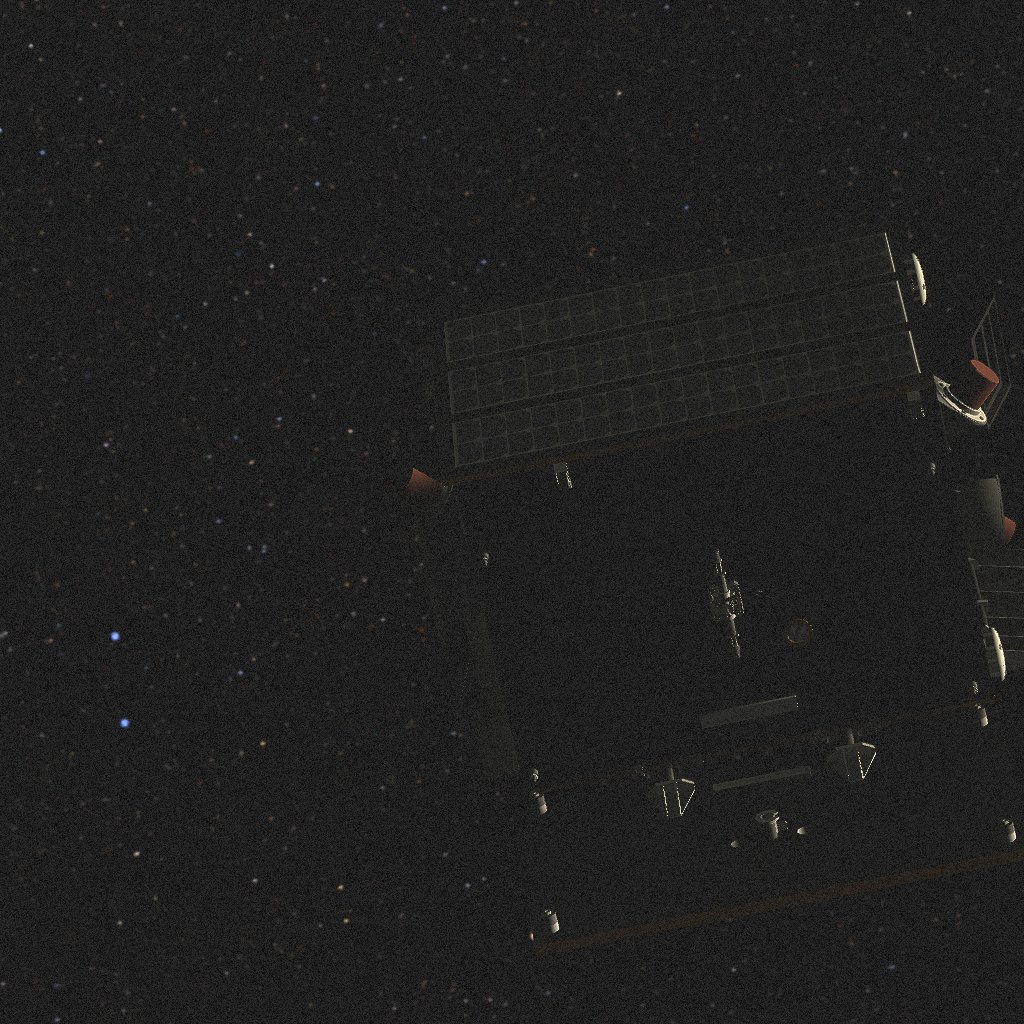proba_2: (393, 222, 1024, 956)
